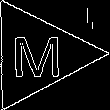M_N: (11, 29, 64, 80)
